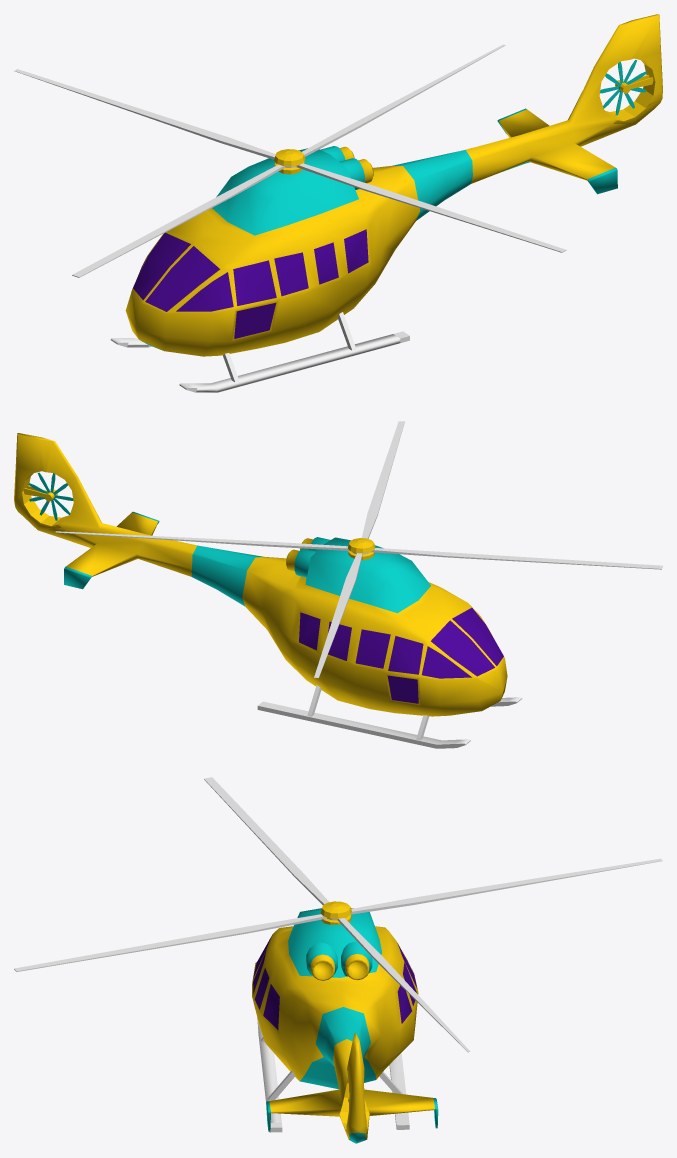
File: ToyObject_069.fbx
The picture shows the model from 3 angles, top to bottom: view 1: azimuth 30°, elevation 25°; view 2: azimuth 150°, elevation 25°; view 3: azimuth 270°, elevation 25°; orthographic projection. The views are drawn at different scales.
Visible parts, largest first — view 1: 1.032; view 2: 1.032; view 3: 1.032.
Part boxes in pixels (x1,y1,x2,y2): 1.032: [14, 14, 662, 392]; 1.032: [14, 421, 662, 748]; 1.032: [14, 777, 662, 1143].
Size of the model in its own units: 0.4671 by 0.1497 by 0.395.
1 material, 1 textured.
